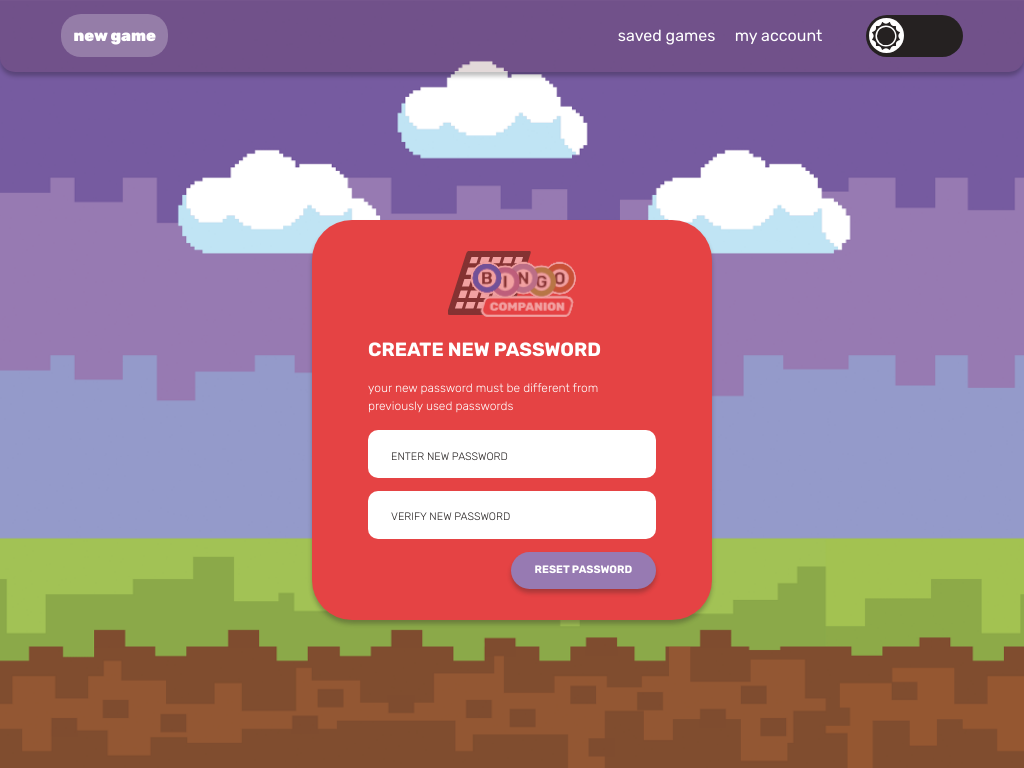
Test: route related tests › auth forms › reset pw form › displays server error if password failed to be reset
Type "123456" into the password field with id "resetPassword" at (512, 454), box [368,430,656,478]
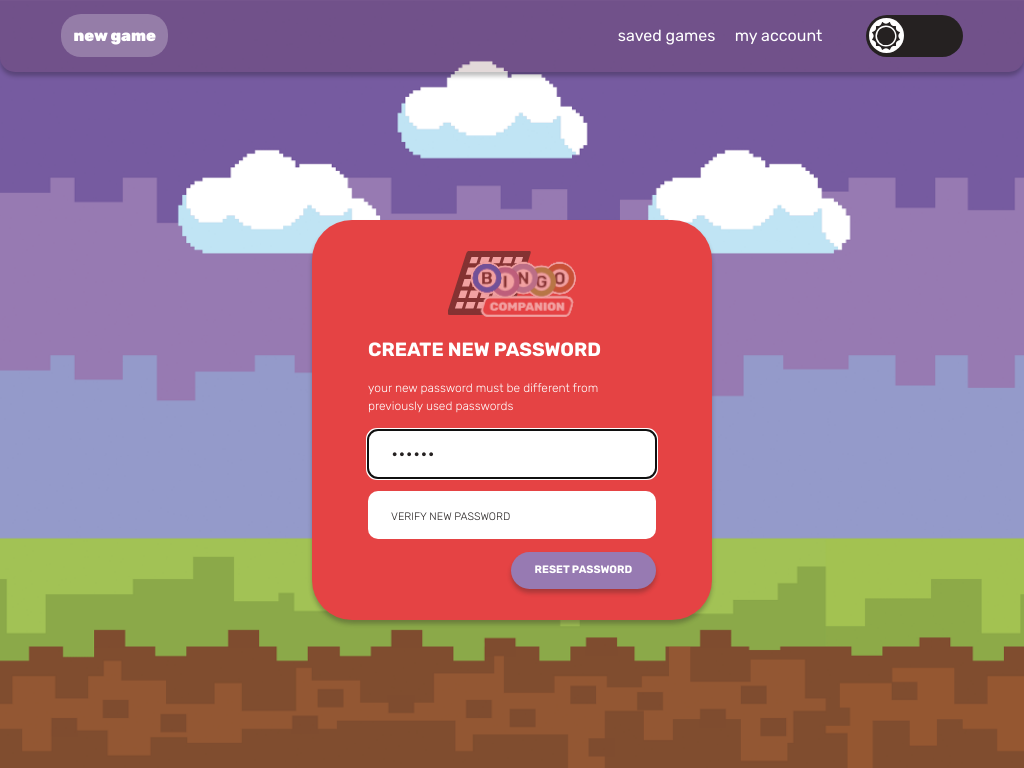
Type "123456" into the password field with id "resetRepeatPassword" at (512, 515), box [368,491,656,539]
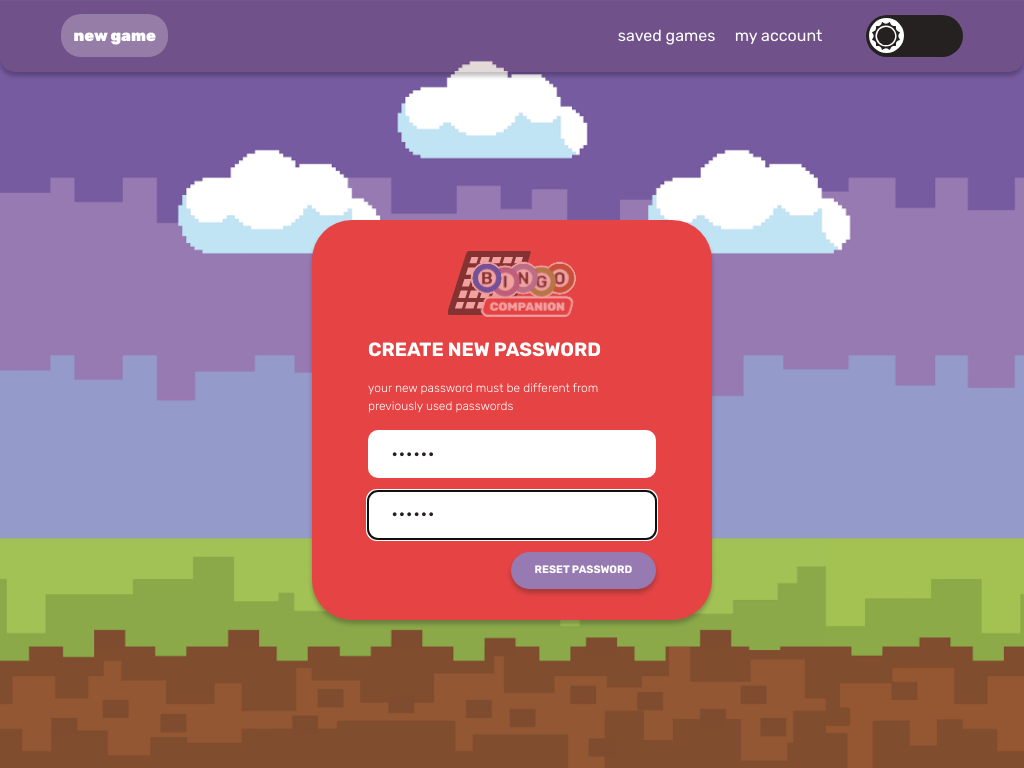
Click the button with id "btnSubmit" at (584, 571), box [511,552,656,590]
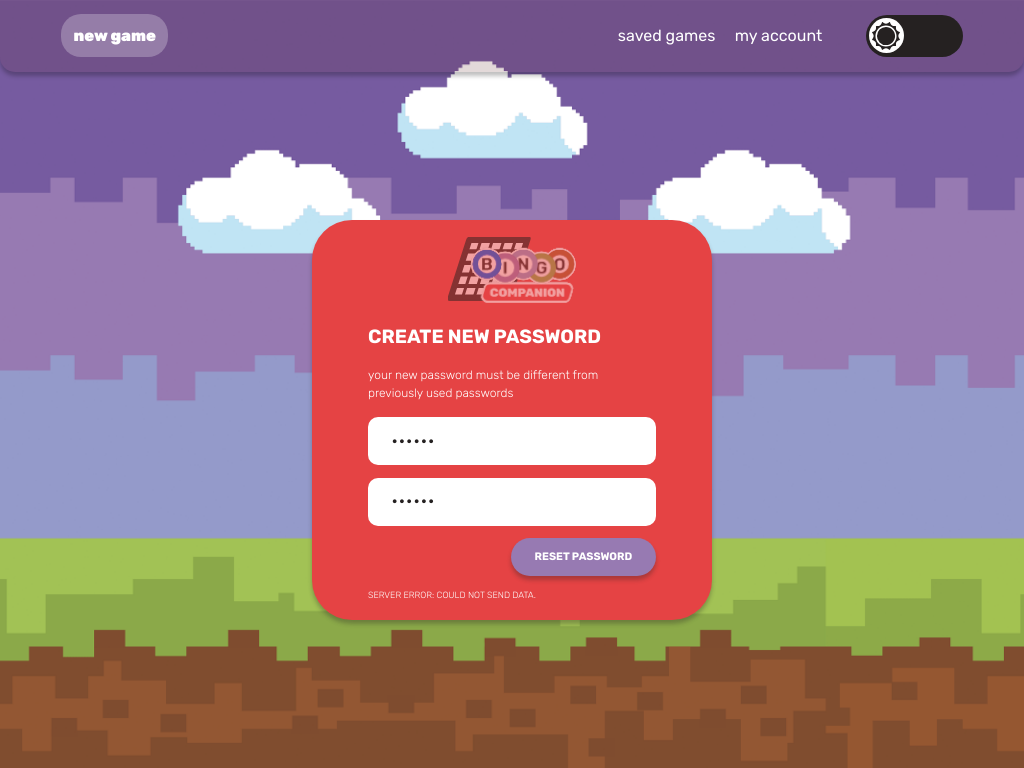
Now the text "Server error: could not send data." is shown, box [368,590,536,600]
